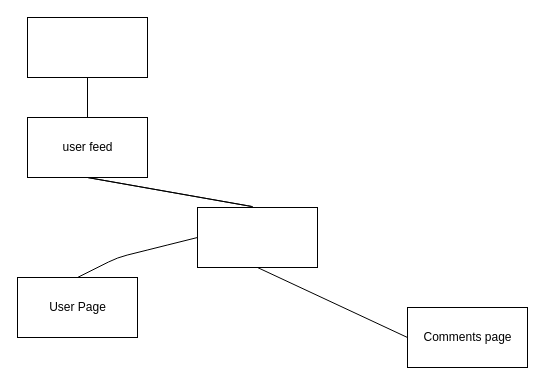
This 545x385 diagram has some shape labels left out. The shapes that lost their labels are listed below. From the top down, each one's centre as x and y in pixels, then its label:
(x=87, y=47): App
(x=257, y=237): post
